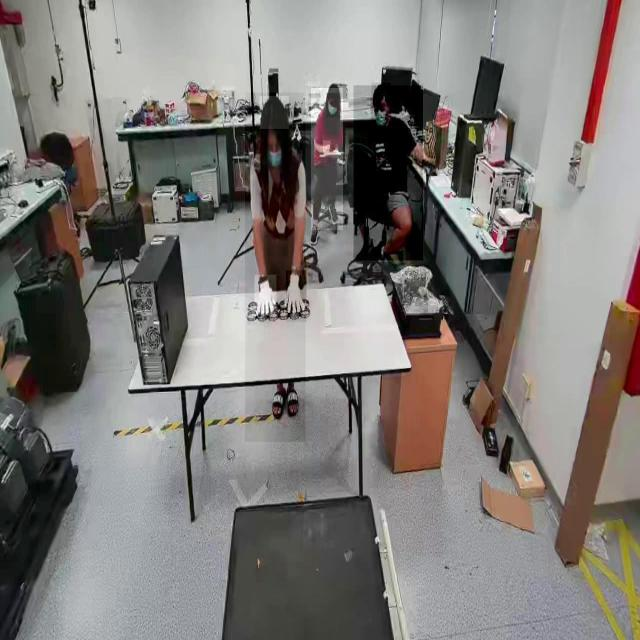face_mask: (262, 131, 284, 173), (371, 98, 391, 133), (326, 92, 338, 118)
hand_glove: (286, 270, 308, 323), (255, 274, 277, 316)
hand_noglove: (420, 153, 436, 168), (323, 140, 331, 156)
head_nohelmet: (260, 96, 290, 130), (372, 82, 392, 98), (328, 82, 340, 94)
person: (245, 92, 306, 442), (354, 86, 424, 262), (311, 88, 343, 231)
